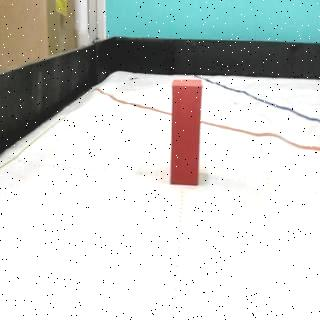redbox: (171, 78, 201, 186)
